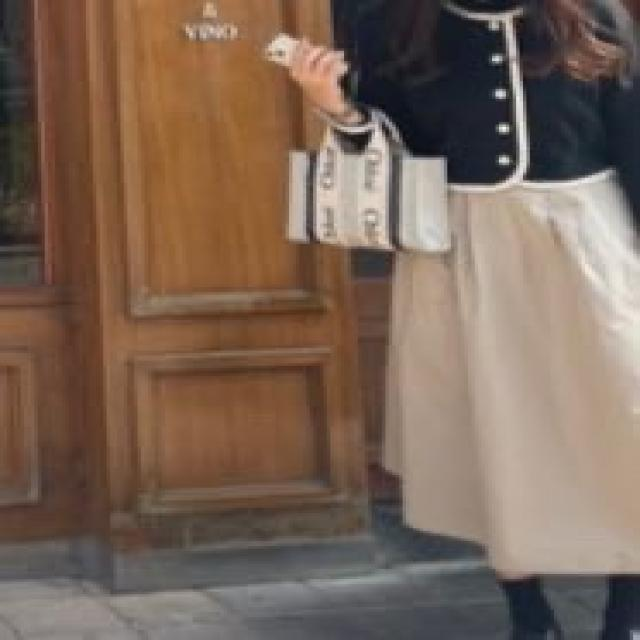cardigan: (309, 0, 640, 195)
skirt: (381, 177, 640, 582)
